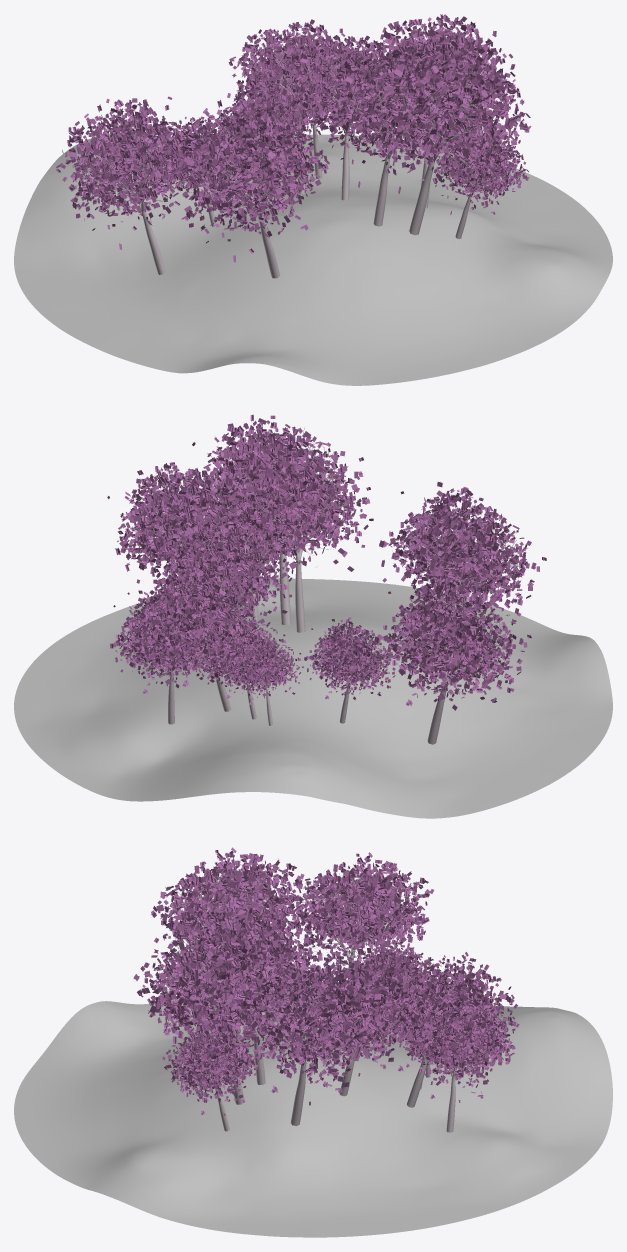
File: PinkForest.glb
The picture shows the model from 3 angles, top to bottom: view 1: azimuth 30°, elevation 25°; view 2: azimuth 150°, elevation 25°; view 3: azimuth 270°, elevation 25°; orthographic projection.
Parts seen in each view (by area): view 1: Plane.001, BlueFlowers.3813, BlueFlowers.3806, BlueFlowers.3805, BlueFlowers.3810, BlueFlowers.3811, BlueFlowers.3812, BlueFlowers.3815, BlueFlowers.3816, tree.009, BlueFlowers.3809, tree.002 (+4 smaller); view 2: Plane.001, BlueFlowers.3806, BlueFlowers.3805, BlueFlowers.3810, BlueFlowers.3816, BlueFlowers.3811, BlueFlowers.3813, BlueFlowers.3812, BlueFlowers.3807, BlueFlowers.3814, BlueFlowers.3809, BlueFlowers.3808 (+5 smaller); view 3: Plane.001, BlueFlowers.3813, BlueFlowers.3816, BlueFlowers.3805, BlueFlowers.3806, BlueFlowers.3811, BlueFlowers.3814, BlueFlowers.3815, BlueFlowers.3812, BlueFlowers.3810, BlueFlowers.3807, tree.012 (+4 smaller).
Part boxes in pixels (x1=…): Plane.001: x1=14, y1=134, x2=612, y2=385; BlueFlowers.3813: x1=369, y1=26, x2=531, y2=193; BlueFlowers.3806: x1=171, y1=93, x2=329, y2=262; BlueFlowers.3805: x1=56, y1=96, x2=202, y2=249; BlueFlowers.3810: x1=326, y1=39, x2=469, y2=187; BlueFlowers.3811: x1=228, y1=19, x2=353, y2=141; BlueFlowers.3812: x1=285, y1=35, x2=404, y2=154; BlueFlowers.3815: x1=434, y1=126, x2=529, y2=214; BlueFlowers.3816: x1=365, y1=14, x2=515, y2=153; tree.009: x1=387, y1=57, x2=497, y2=235; BlueFlowers.3809: x1=225, y1=86, x2=314, y2=149; tree.002: x1=196, y1=123, x2=298, y2=278; Plane.001: x1=14, y1=578, x2=612, y2=818; BlueFlowers.3806: x1=379, y1=482, x2=546, y2=629; BlueFlowers.3805: x1=374, y1=573, x2=531, y2=710; BlueFlowers.3810: x1=218, y1=449, x2=373, y2=584; BlueFlowers.3816: x1=107, y1=462, x2=268, y2=583; BlueFlowers.3811: x1=127, y1=556, x2=276, y2=686; BlueFlowers.3813: x1=191, y1=414, x2=366, y2=554; BlueFlowers.3812: x1=156, y1=518, x2=298, y2=621; BlueFlowers.3807: x1=304, y1=617, x2=397, y2=699; BlueFlowers.3814: x1=110, y1=587, x2=229, y2=693; BlueFlowers.3809: x1=198, y1=618, x2=290, y2=698; BlueFlowers.3808: x1=225, y1=637, x2=303, y2=705; Plane.001: x1=14, y1=985, x2=612, y2=1237; BlueFlowers.3813: x1=133, y1=908, x2=298, y2=1077; BlueFlowers.3816: x1=237, y1=950, x2=395, y2=1105; BlueFlowers.3805: x1=292, y1=852, x2=434, y2=969; BlueFlowers.3806: x1=151, y1=847, x2=304, y2=962; BlueFlowers.3811: x1=382, y1=952, x2=517, y2=1084; BlueFlowers.3814: x1=399, y1=991, x2=519, y2=1102; BlueFlowers.3815: x1=162, y1=1018, x2=259, y2=1115; BlueFlowers.3812: x1=307, y1=947, x2=435, y2=1076; BlueFlowers.3810: x1=177, y1=906, x2=325, y2=1056; BlueFlowers.3807: x1=349, y1=940, x2=435, y2=988; tree.012: x1=257, y1=967, x2=365, y2=1125.
Bounding box in the file's own units: 17.21 × 7.31 × 17.21.
